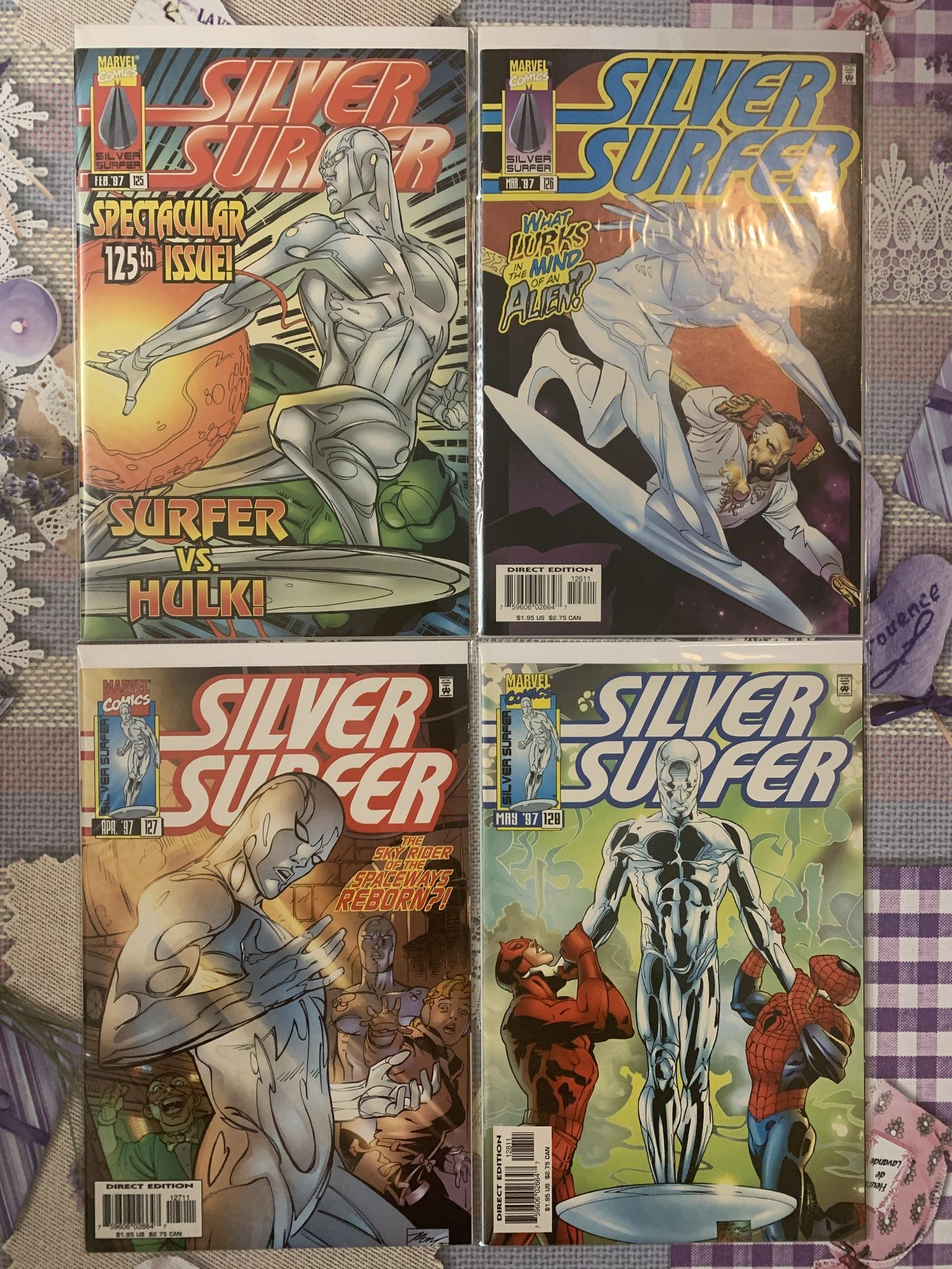comic: (75, 25, 469, 640), (81, 640, 472, 1252), (476, 26, 864, 638), (477, 639, 867, 1245)
